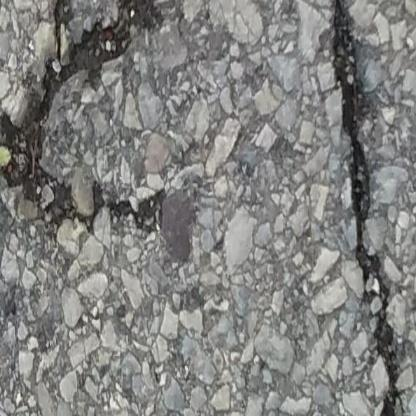Cracks: (0, 0, 190, 233), (329, 0, 411, 416)
